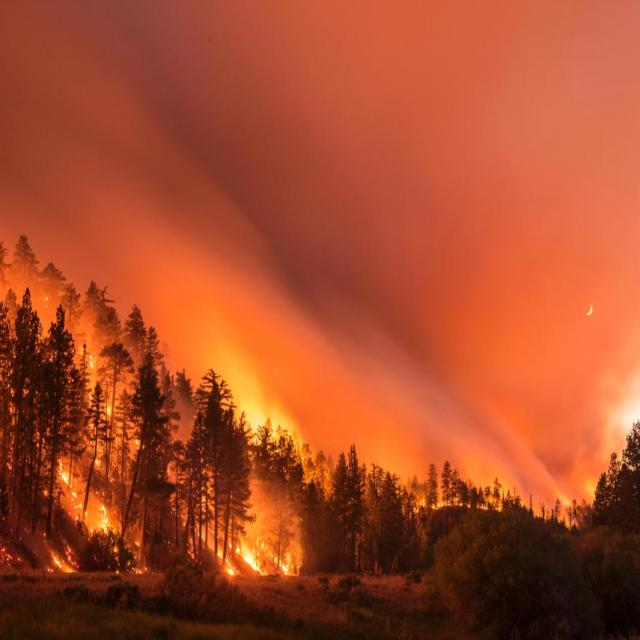Fire: (234, 391, 307, 455), (216, 536, 263, 577), (84, 492, 121, 535)
